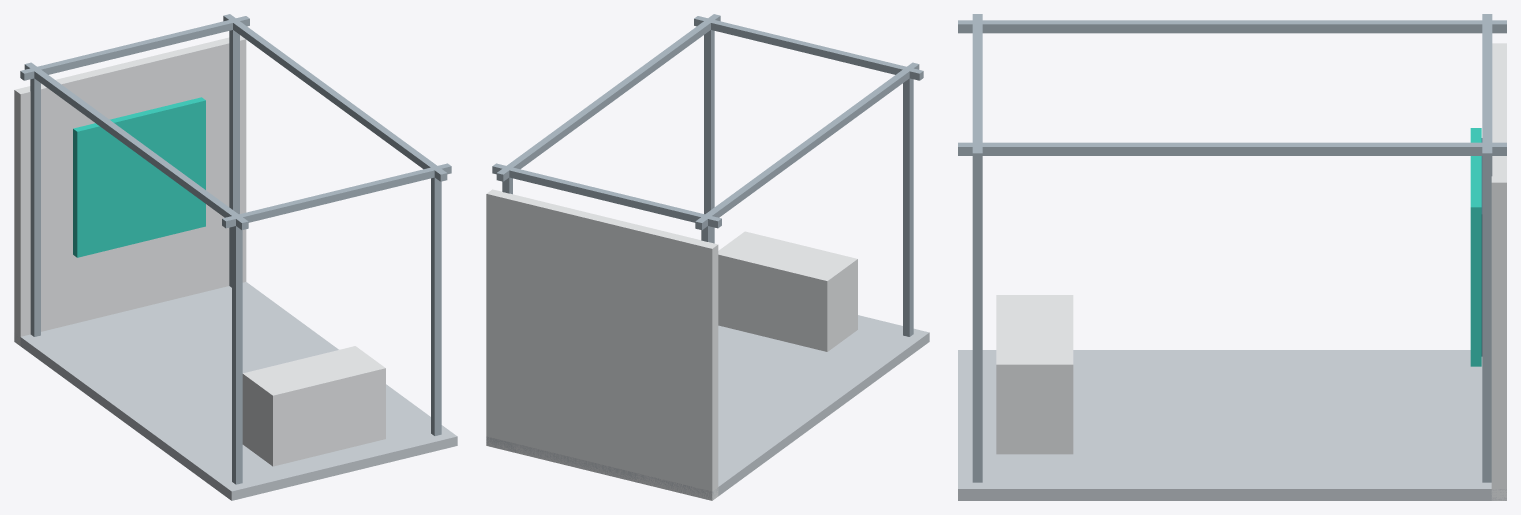
The picture shows the model from 3 angles, left to right: view 1: azimuth 30°, elevation 25°; view 2: azimuth 150°, elevation 25°; view 3: azimuth 270°, elevation 25°; orthographic projection. The views are drawn at different scales.
Visible parts, largest first — view 1: Exhibition Booth Concept; view 2: Exhibition Booth Concept; view 3: Exhibition Booth Concept.
Part boxes in pixels (x1,y1,x2,y2): Exhibition Booth Concept: (14,14,457,500); Exhibition Booth Concept: (486,14,929,500); Exhibition Booth Concept: (958,14,1506,500).
Bounding box in the file's own units: 3 × 3.49 × 5.
